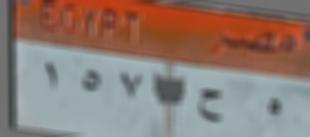1: (37, 62, 64, 89)
5: (76, 68, 106, 97)
7: (110, 70, 152, 100)
7aa: (192, 85, 231, 127)
haa: (253, 92, 288, 125)
